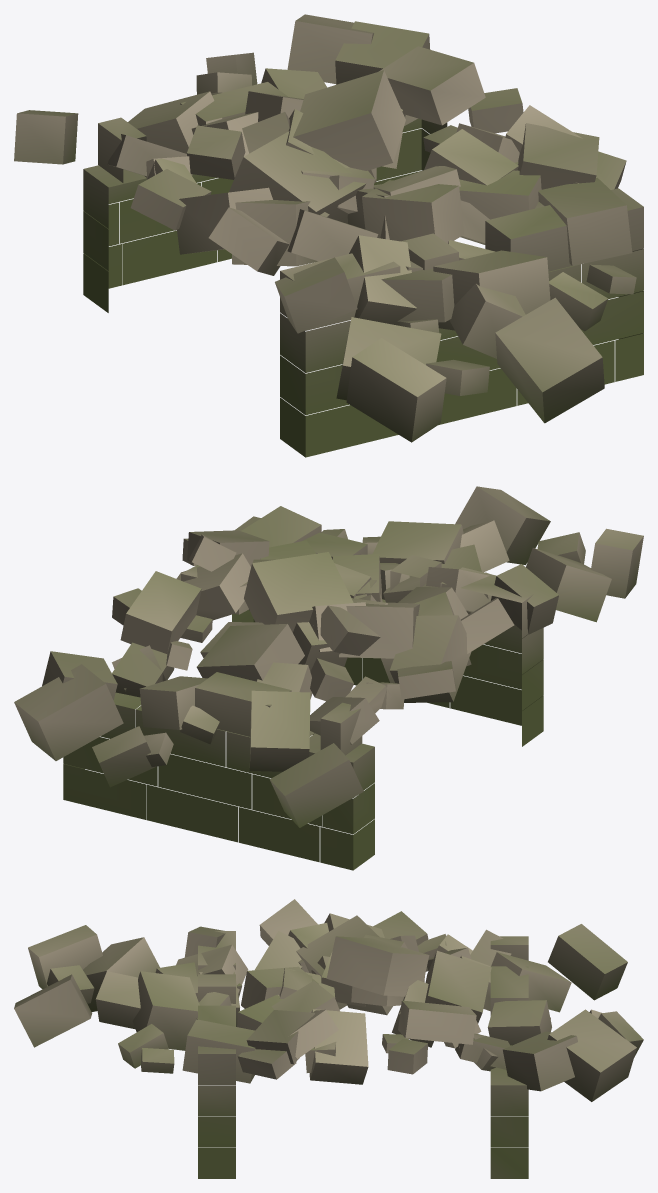
File: citadel_rubble_mid.glb
The picture shows the model from 3 angles, top to bottom: view 1: azimuth 30°, elevation 25°; view 2: azimuth 150°, elevation 25°; view 3: azimuth 270°, elevation 25°; orthographic projection. The views are drawn at different scales.
Parts seen in each view (by area): view 1: citadel_rubble_mid; view 2: citadel_rubble_mid; view 3: citadel_rubble_mid.
Part boxes in pixels (bbox=[...]): citadel_rubble_mid: bbox=[14, 14, 643, 457]; citadel_rubble_mid: bbox=[14, 486, 643, 870]; citadel_rubble_mid: bbox=[14, 899, 643, 1178].
Size of the model in its own units: 22.46 by 12.55 by 40.04.
